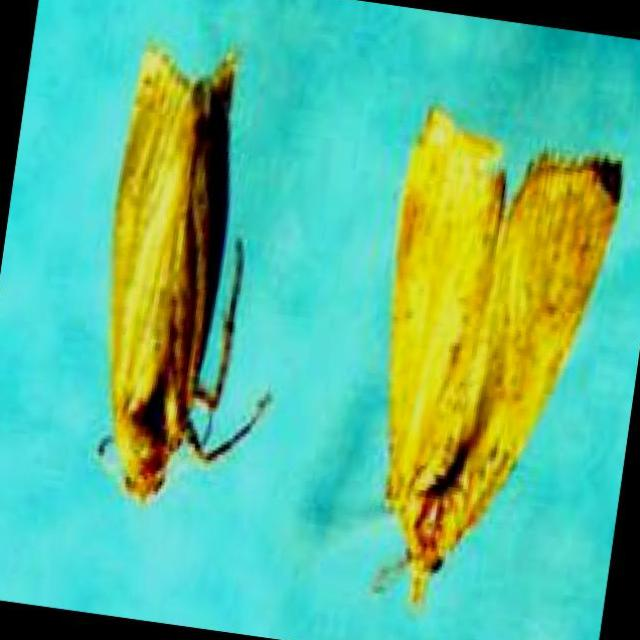stem borer: (386, 112, 622, 604), (113, 48, 245, 503)
